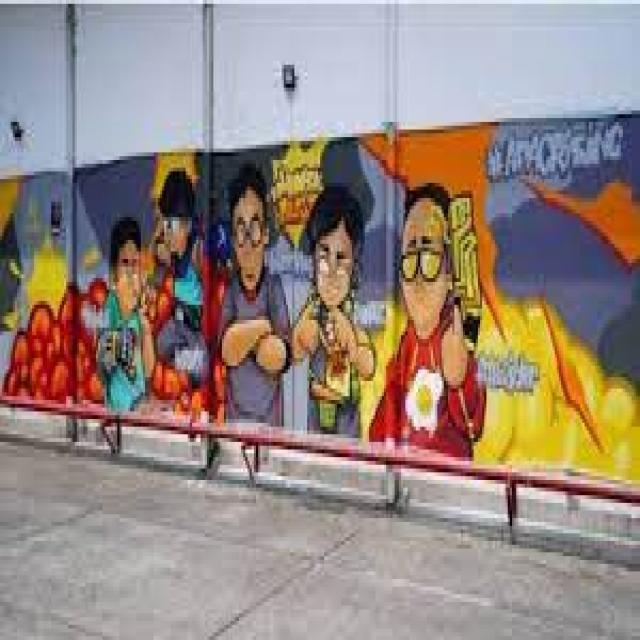-: (0, 109, 640, 476)
